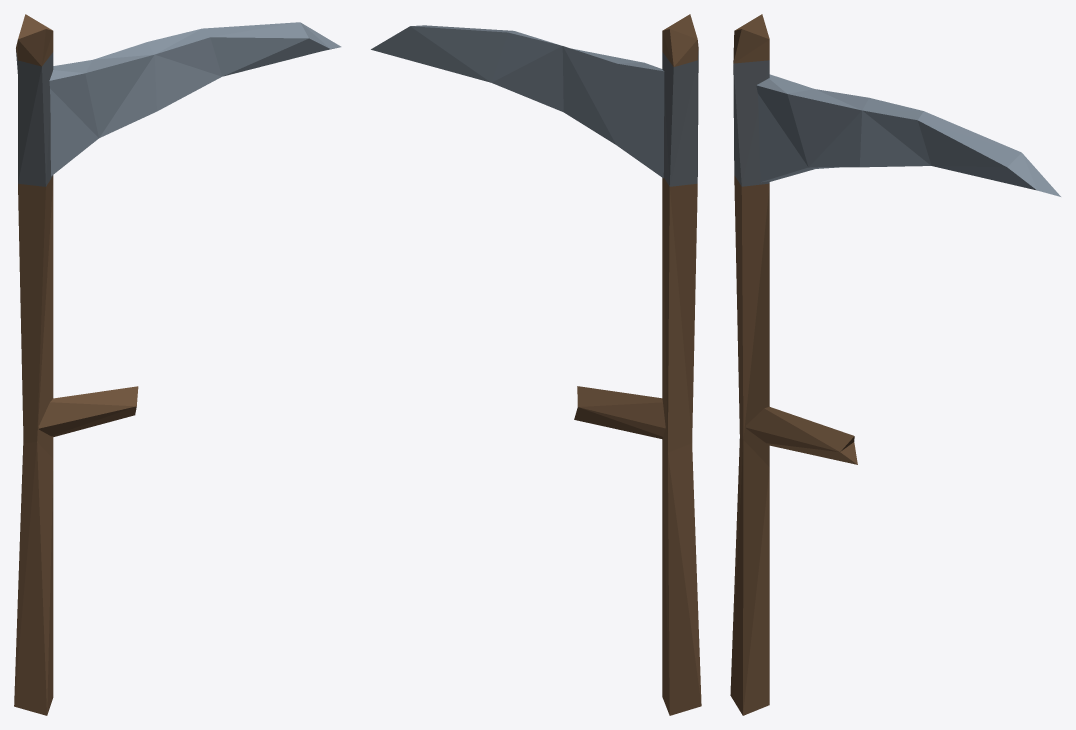
Rendered from scythe.fbx.
3 renders of one model, left to right at view 1: azimuth 30°, elevation 25°; view 2: azimuth 150°, elevation 25°; view 3: azimuth 330°, elevation 25°, orthographic.
Visible parts, largest first — view 1: scythe; view 2: scythe; view 3: scythe.
Part boxes in pixels (x1,y1,x2,y2): scythe: [14, 14, 341, 715]; scythe: [371, 14, 701, 715]; scythe: [730, 14, 1060, 715].
Bounding box in the file's own units: 2.3 × 4.58 × 0.308.
